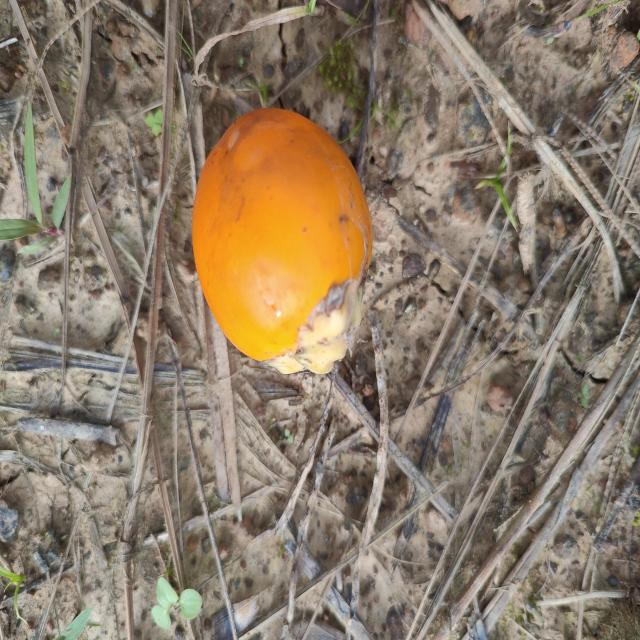good: (191, 108, 374, 373)
